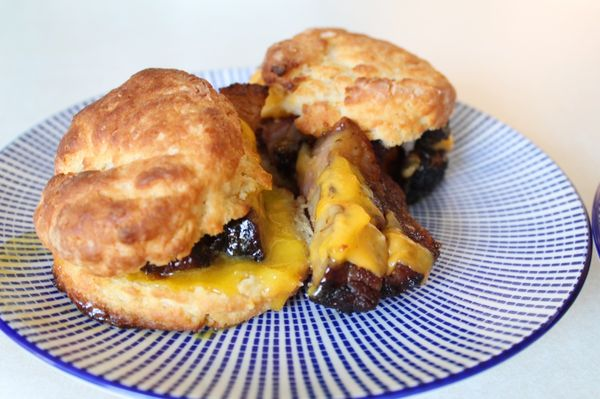soup: (35, 67, 313, 333), (251, 27, 458, 312)
